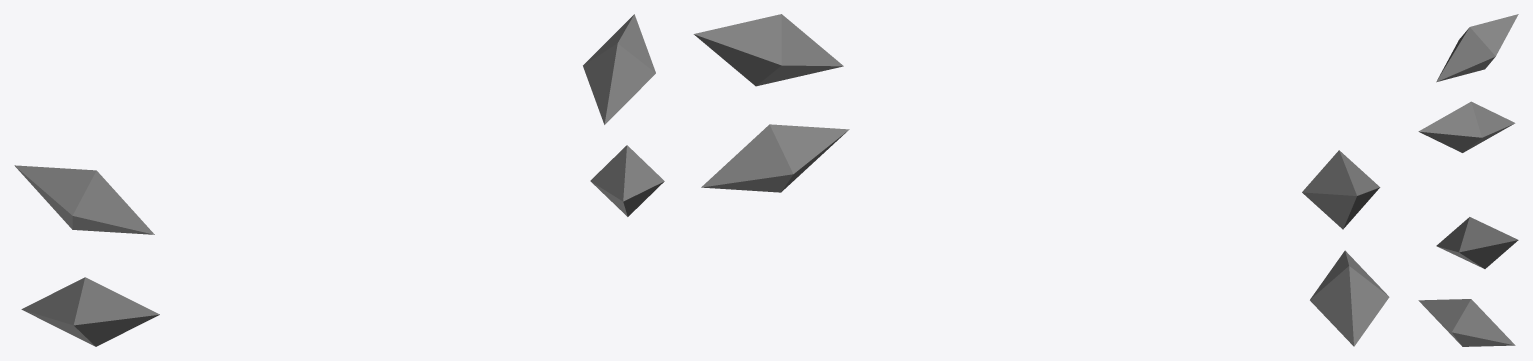
The model's file is SM_Chr_Attach_Earrings_Male_03.fbx.
3 views of the same model, side by side, from view 1: azimuth 30°, elevation 25°; view 2: azimuth 150°, elevation 25°; view 3: azimuth 270°, elevation 25° (orthographic). The views are drawn at different scales.
Parts seen in each view (by area): view 1: SM_Chr_Attach_Earrings_Male_03; view 2: SM_Chr_Attach_Earrings_Male_03; view 3: SM_Chr_Attach_Earrings_Male_03.
Boxes of the visible parts, <box> form: SM_Chr_Attach_Earrings_Male_03: <box>14,14,664,346</box>; SM_Chr_Attach_Earrings_Male_03: <box>693,14,1389,346</box>; SM_Chr_Attach_Earrings_Male_03: <box>1418,14,1518,346</box>.
Size of the model in its own units: 28.12 by 7.44 by 5.29.
